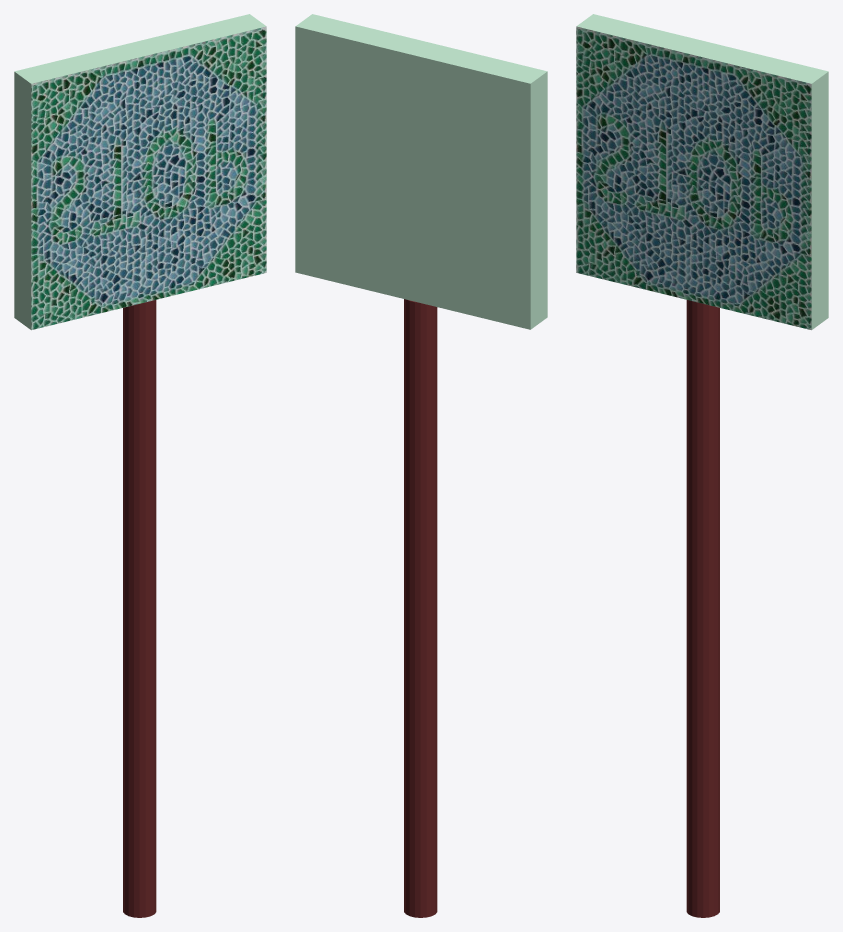
File: stop.dae
3 views of the same model, side by side, from view 1: azimuth 30°, elevation 25°; view 2: azimuth 150°, elevation 25°; view 3: azimuth 330°, elevation 25° (orthographic).
Parts seen in each view (by area): view 1: BSD_Material_t_stop__14, CSD_Material_t_stop__37, BSD_Material_t_stop__15; view 2: BSD_Material_t_stop__15, CSD_Material_t_stop__37; view 3: BSD_Material_t_stop__14, CSD_Material_t_stop__37, BSD_Material_t_stop__15.
Boxes of the visible parts, x1,y1,x2,y2 form: BSD_Material_t_stop__14: [31, 26, 266, 329]; CSD_Material_t_stop__37: [123, 300, 156, 917]; BSD_Material_t_stop__15: [14, 14, 266, 329]; BSD_Material_t_stop__15: [295, 14, 547, 329]; CSD_Material_t_stop__37: [404, 299, 437, 917]; BSD_Material_t_stop__14: [576, 26, 811, 329]; CSD_Material_t_stop__37: [686, 300, 719, 917]; BSD_Material_t_stop__15: [576, 14, 828, 329].
Bounding box in the file's own units: 1.57 × 0.2043 × 5.51.
